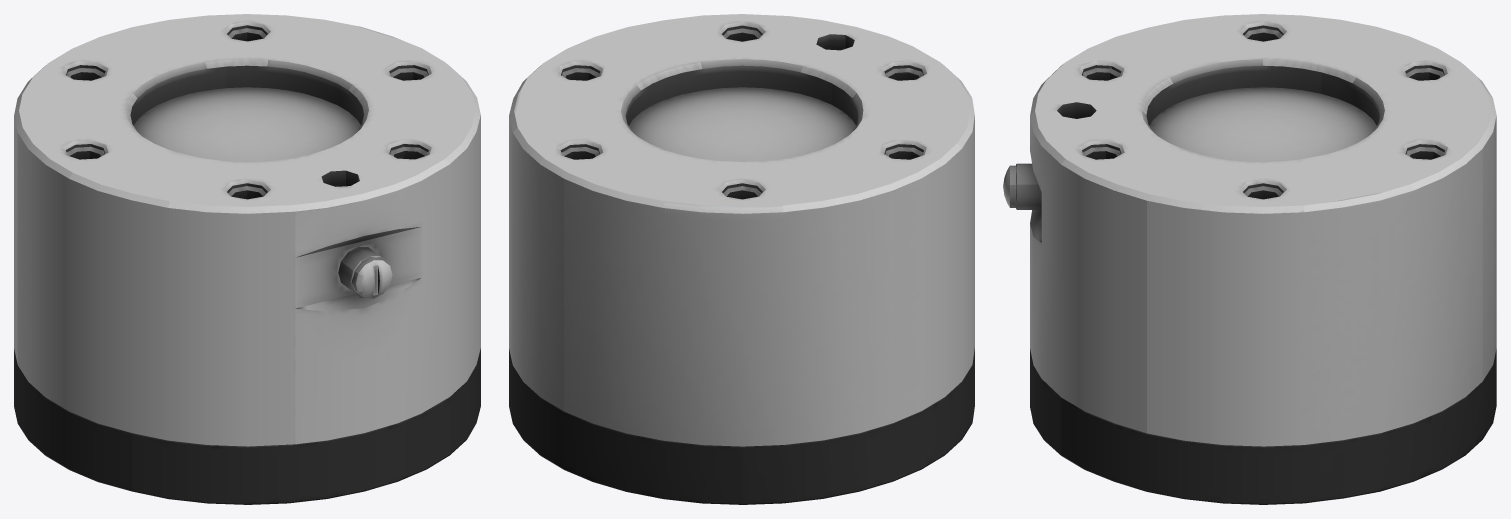
File: wrist_3_link.glb
The picture shows the model from 3 angles, left to right: view 1: azimuth 30°, elevation 25°; view 2: azimuth 150°, elevation 25°; view 3: azimuth 270°, elevation 25°; orthographic projection.
Parts seen in each view (by area): view 1: wrist-3-mesh_003, wrist-3-mesh_001; view 2: wrist-3-mesh_003, wrist-3-mesh_001; view 3: wrist-3-mesh_003, wrist-3-mesh_001.
Part boxes in pixels (x1,y1,x2,y2): wrist-3-mesh_003: (14, 14, 480, 446); wrist-3-mesh_001: (14, 348, 480, 504); wrist-3-mesh_003: (509, 14, 974, 446); wrist-3-mesh_001: (509, 348, 974, 504); wrist-3-mesh_003: (1003, 14, 1496, 446); wrist-3-mesh_001: (1030, 348, 1496, 504).
Bounding box in the file's own units: 0.1 × 0.0699 × 0.1057.
1 material, 1 textured.
